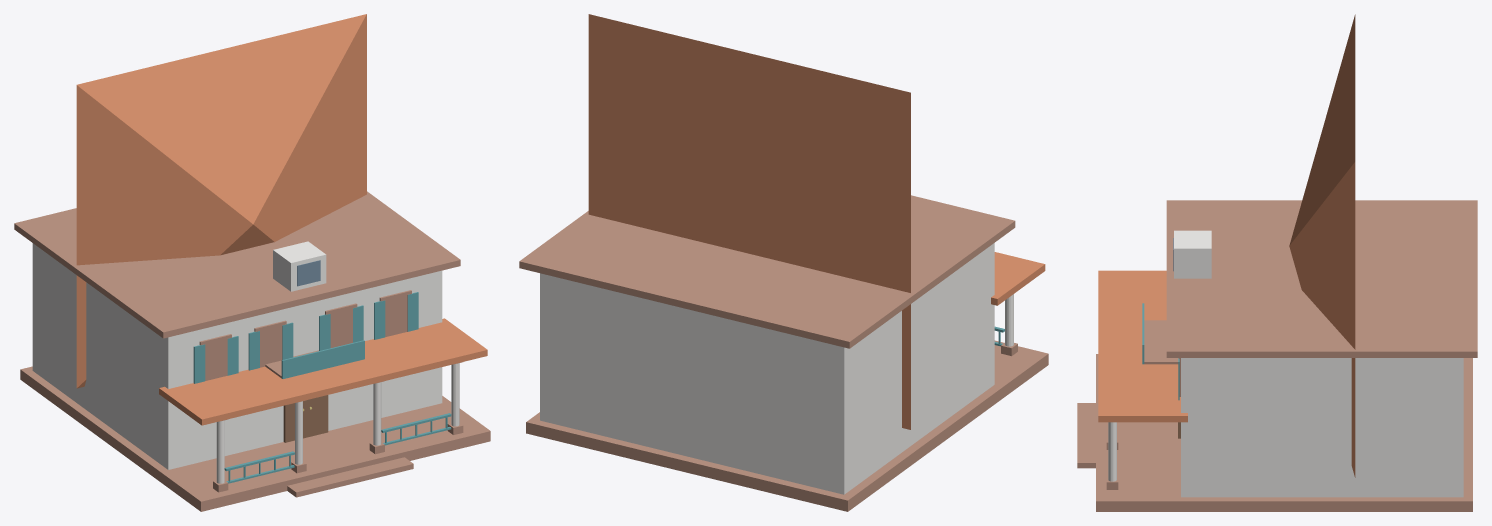
The model's file is building_heritage_villa.glb.
3 renders of one model, left to right at view 1: azimuth 30°, elevation 25°; view 2: azimuth 150°, elevation 25°; view 3: azimuth 270°, elevation 25°, orthographic. The views are drawn at different scales.
Visible parts, largest first — view 1: Villa_Roof, Villa_Body, Villa_Eaves_Molding, Plinth_Villa, Veranda_Roof, Villa_Steps, Dormer_Body, Villa_Balcony_Rail, Door_Frame, Villa_Win_Frame, Villa_Win_Frame.003, Villa_Win_Frame.001 (+4 smaller); view 2: Villa_Roof, Villa_Body, Villa_Eaves_Molding, Plinth_Villa, Veranda_Roof; view 3: Villa_Eaves_Molding, Villa_Body, Plinth_Villa, Villa_Roof, Veranda_Roof, Dormer_Body, Villa_Steps, Villa_Upper_Balcony, Col_Shaft.003.
Boxes of the visible parts, bbox=[...] form: Villa_Roof: bbox=[76, 14, 366, 388]; Villa_Body: bbox=[32, 243, 442, 469]; Villa_Eaves_Molding: bbox=[14, 191, 460, 338]; Plinth_Villa: bbox=[20, 366, 490, 511]; Veranda_Roof: bbox=[159, 318, 487, 425]; Villa_Steps: bbox=[287, 457, 413, 497]; Dormer_Body: bbox=[273, 241, 326, 291]; Villa_Balcony_Rail: bbox=[281, 340, 364, 378]; Door_Frame: bbox=[283, 395, 328, 442]; Villa_Win_Frame: bbox=[199, 334, 231, 380]; Villa_Win_Frame.003: bbox=[379, 290, 411, 336]; Villa_Win_Frame.001: bbox=[254, 320, 286, 367]; Villa_Roof: bbox=[588, 14, 910, 429]; Villa_Body: bbox=[540, 243, 994, 494]; Villa_Eaves_Molding: bbox=[519, 195, 1015, 348]; Plinth_Villa: bbox=[526, 340, 1048, 511]; Veranda_Roof: bbox=[991, 252, 1045, 305]; Villa_Eaves_Molding: bbox=[1166, 200, 1477, 357]; Villa_Body: bbox=[1181, 358, 1463, 497]; Plinth_Villa: bbox=[1096, 354, 1472, 511]; Villa_Roof: bbox=[1289, 14, 1355, 477]; Veranda_Roof: bbox=[1098, 270, 1187, 422]; Dormer_Body: bbox=[1174, 230, 1211, 278]; Villa_Steps: bbox=[1077, 403, 1095, 468]; Villa_Upper_Balcony: bbox=[1144, 320, 1178, 364]; Col_Shaft.003: bbox=[1108, 422, 1116, 481].
Size of the model in its own units: 15.2 by 16.42 by 17.
